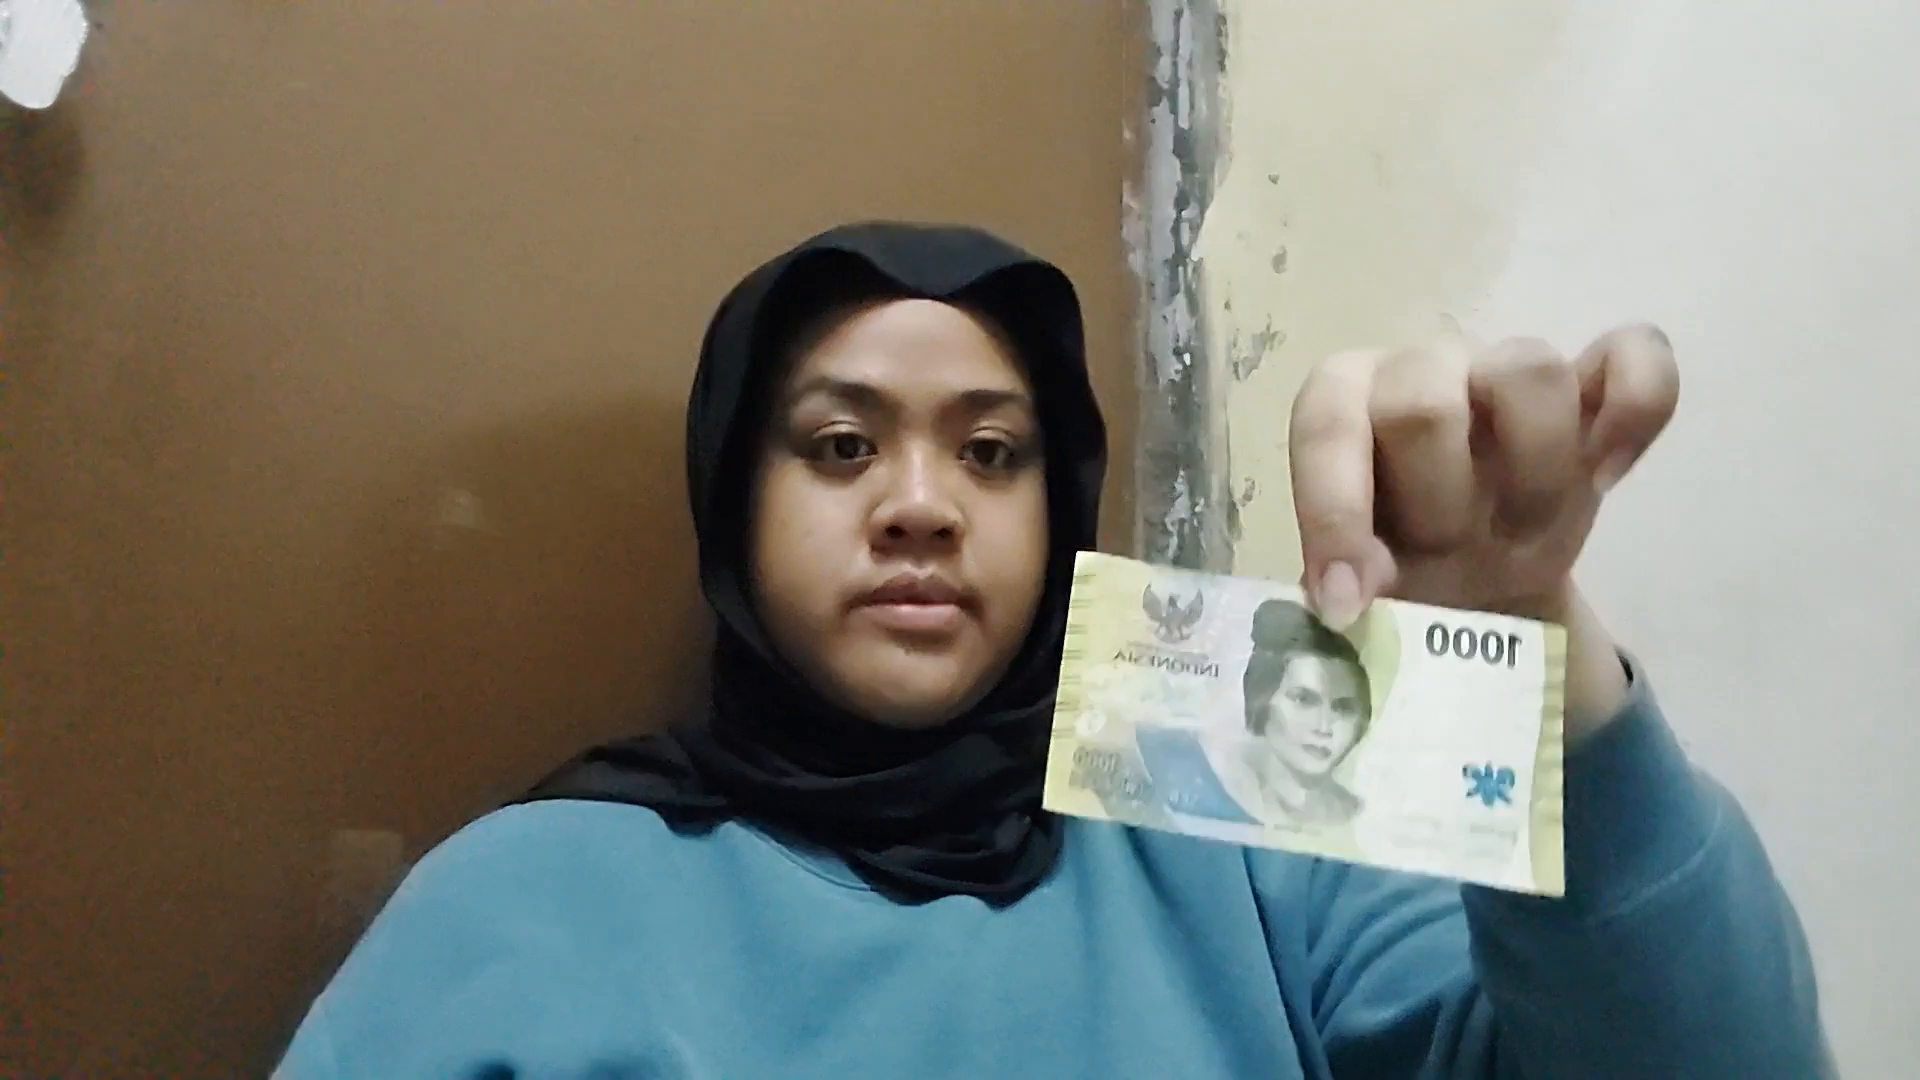1k: (1077, 558, 1586, 833)
